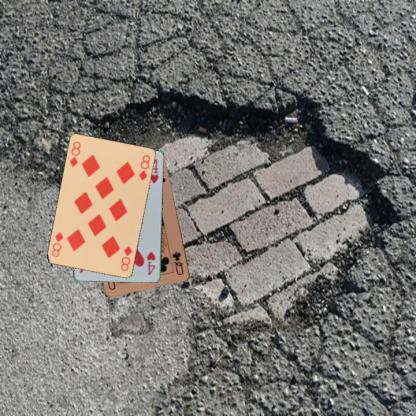4h: (145, 249, 157, 277)
8d: (118, 244, 134, 272), (67, 139, 82, 168)
Qc: (170, 249, 185, 277)
